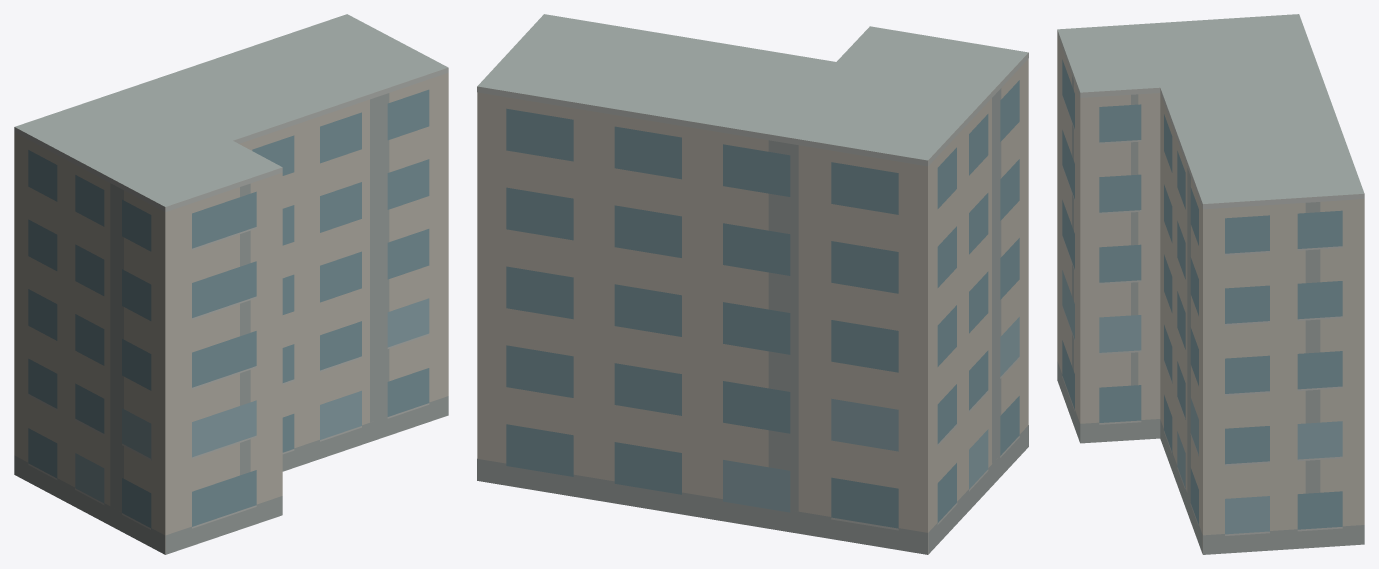
Rendered from survey-upis-32750342.glb.
3 views of the same model, side by side, from view 1: azimuth 30°, elevation 25°; view 2: azimuth 150°, elevation 25°; view 3: azimuth 270°, elevation 25° (orthographic). The views are drawn at different scales.
Visible parts, largest first — view 1: survey-upis-32750342.tmp; view 2: survey-upis-32750342.tmp; view 3: survey-upis-32750342.tmp.
Boxes of the visible parts, x1,y1,x2,y2 form: survey-upis-32750342.tmp: [14, 14, 448, 554]; survey-upis-32750342.tmp: [477, 14, 1028, 554]; survey-upis-32750342.tmp: [1057, 14, 1364, 554].
Size of the model in its own units: 18.86 by 16.21 by 12.88.
